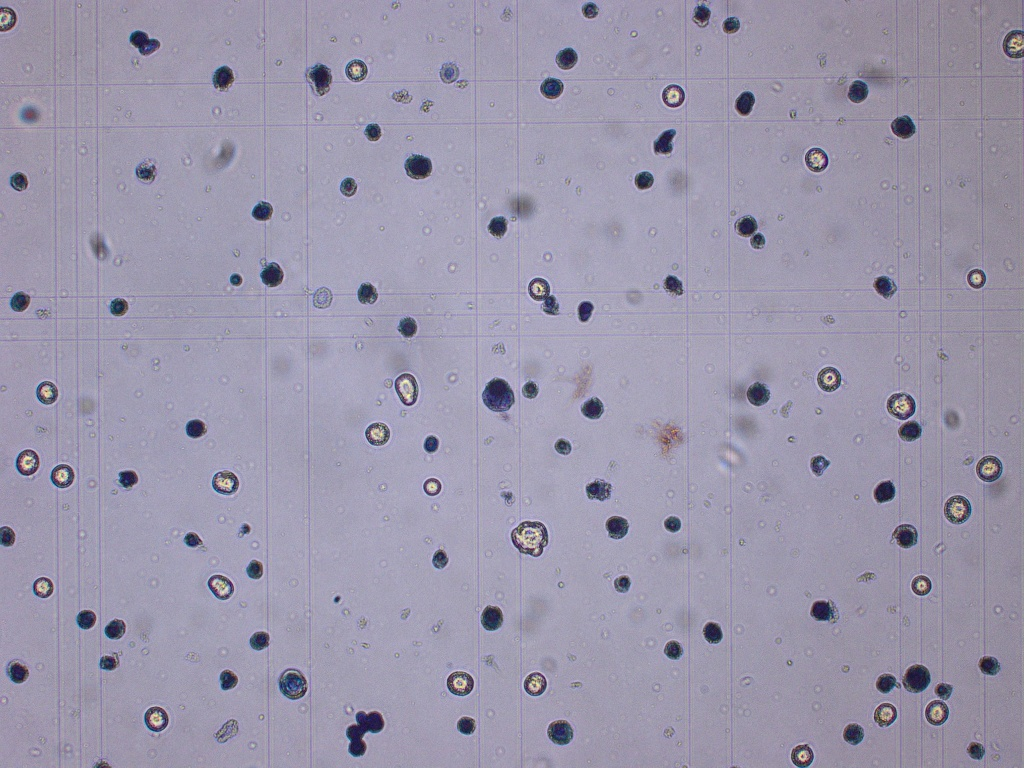Alive: (511, 521, 547, 556), (395, 373, 419, 407), (886, 392, 916, 419), (945, 494, 970, 524), (208, 574, 234, 599), (447, 672, 474, 696), (804, 148, 829, 173), (977, 456, 1001, 482), (144, 707, 170, 731), (213, 471, 239, 495), (817, 366, 841, 391), (17, 449, 38, 477), (365, 422, 389, 446), (51, 464, 75, 488), (926, 700, 949, 725), (875, 703, 897, 729), (524, 671, 546, 697), (1002, 31, 1024, 57), (528, 277, 551, 300), (662, 84, 685, 107), (36, 380, 58, 404), (791, 745, 814, 767), (345, 60, 368, 82), (910, 576, 933, 595), (34, 577, 55, 597), (1, 5, 17, 31), (422, 478, 442, 496), (967, 270, 987, 288)
Dead: (481, 379, 514, 411), (280, 668, 308, 698), (903, 665, 930, 693), (308, 64, 330, 96), (546, 720, 574, 744), (891, 524, 916, 549), (405, 156, 432, 178), (873, 276, 898, 299), (213, 66, 235, 92), (260, 263, 284, 286), (891, 116, 916, 138), (481, 606, 503, 631), (606, 515, 629, 538), (654, 128, 674, 154), (585, 481, 611, 501), (810, 599, 834, 620), (748, 383, 769, 407), (540, 78, 563, 99), (581, 398, 604, 419), (735, 91, 754, 116), (875, 480, 896, 502), (898, 419, 920, 440), (736, 215, 758, 236), (356, 283, 378, 304), (557, 48, 577, 71), (9, 659, 29, 682), (843, 723, 864, 744), (665, 273, 684, 296), (693, 3, 710, 28), (849, 81, 869, 102), (702, 623, 723, 643), (104, 619, 125, 639), (810, 455, 829, 477), (10, 291, 30, 311), (456, 716, 477, 735), (397, 318, 418, 337), (252, 202, 273, 221), (75, 610, 96, 629), (576, 300, 594, 322), (133, 164, 157, 180), (877, 673, 896, 693), (186, 419, 206, 438), (128, 31, 150, 48), (488, 217, 507, 236), (664, 640, 683, 659), (9, 173, 28, 192), (251, 631, 269, 651), (366, 711, 384, 731), (221, 669, 238, 690), (634, 172, 653, 190), (339, 178, 358, 196), (119, 469, 138, 487), (110, 297, 128, 316), (347, 724, 366, 742), (966, 742, 986, 759), (979, 657, 999, 674), (613, 574, 630, 594), (246, 561, 264, 579), (664, 515, 682, 532), (432, 550, 449, 568), (936, 681, 953, 699), (141, 38, 160, 54), (1, 526, 15, 547), (365, 123, 382, 140), (582, 3, 600, 19), (555, 438, 573, 454), (750, 231, 765, 250), (722, 16, 739, 32), (185, 532, 203, 547), (522, 382, 538, 398), (100, 656, 118, 670), (423, 435, 437, 452), (349, 742, 366, 756), (354, 709, 367, 724), (230, 274, 243, 286)
